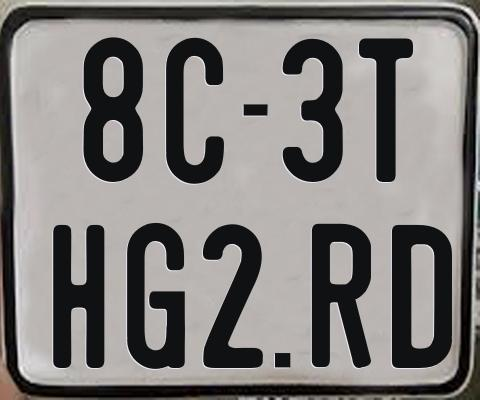2: (201, 221, 261, 368)
3: (280, 37, 343, 182)
8: (81, 34, 141, 181)
C: (166, 37, 225, 189)
D: (391, 224, 456, 372)
G: (124, 221, 184, 370)
H: (51, 222, 109, 370)
R: (309, 221, 374, 369)
T: (357, 38, 414, 182)
